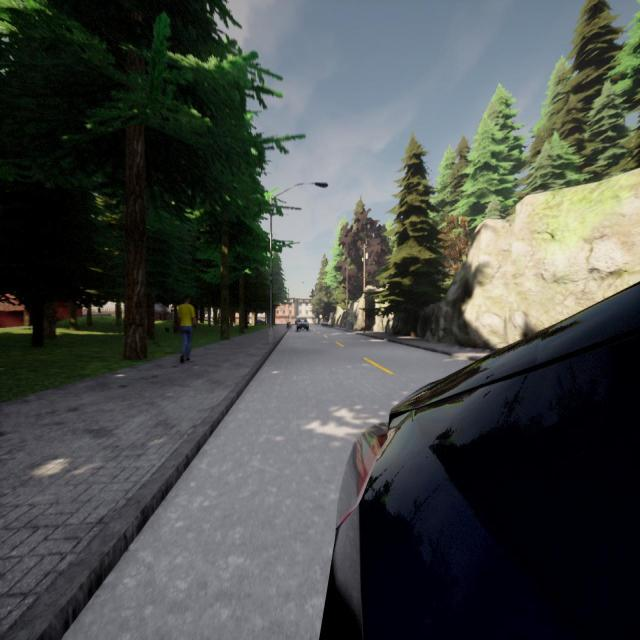Pedestrian: (178, 294, 198, 362)
Traffic_Signs: (319, 315, 323, 318)
Vehicle: (320, 283, 640, 638), (296, 318, 309, 332)
